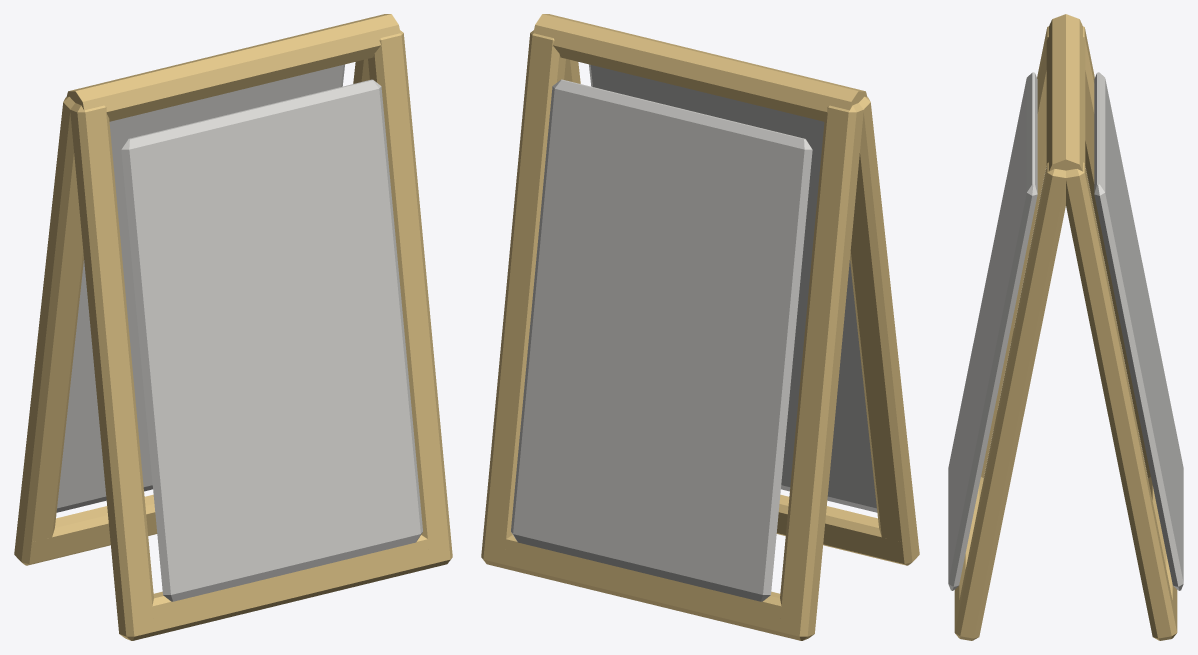
The model's file is restaurant-kitchen-and-dining-menu-holder-54030b60__16522.glb.
3 views of the same model, side by side, from view 1: azimuth 30°, elevation 25°; view 2: azimuth 150°, elevation 25°; view 3: azimuth 270°, elevation 25° (orthographic). The views are drawn at different scales.
Parts seen in each view (by area): view 1: menu-holder; view 2: menu-holder; view 3: menu-holder.
Part boxes in pixels (x1,y1,x2,y2): menu-holder: (14,14,452,640); menu-holder: (481,14,919,640); menu-holder: (948,14,1183,640).
Bounding box in the file's own units: 0.128 × 0.1914 × 0.0849.
